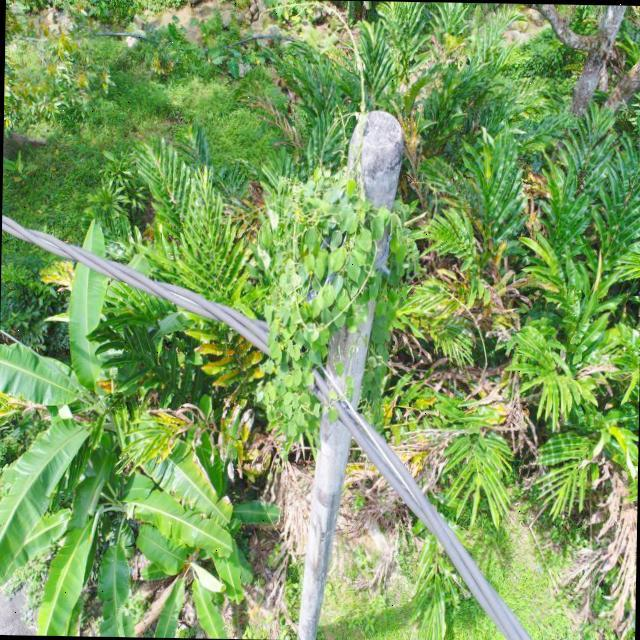critical vegetation: (255, 104, 416, 478)
